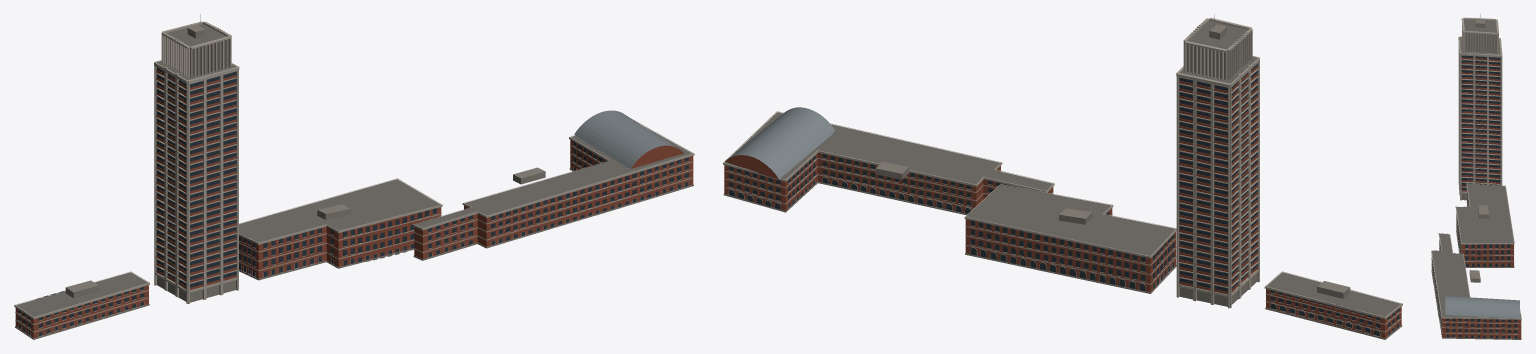
File: hyde_park_barracks.glb
The picture shows the model from 3 angles, left to right: view 1: azimuth 30°, elevation 25°; view 2: azimuth 150°, elevation 25°; view 3: azimuth 270°, elevation 25°; orthographic projection. The views are drawn at different scales.
Bounding box in the file's own units: 250 × 102 × 46.09.
